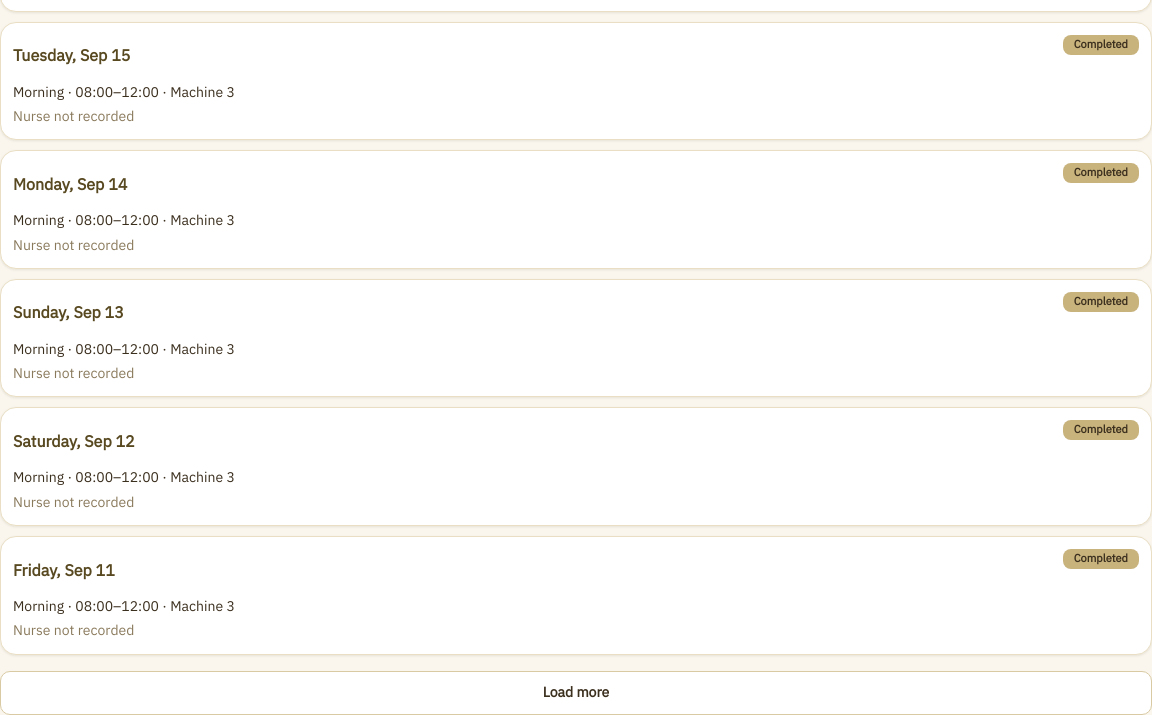
Scenario: Timeline › loads more using the day after the oldest date as before, without duplicating rows
(page scrolled)
Click the button "Load more" at coordinates (576, 693), box [0,671,1151,714]
(page scrolled)
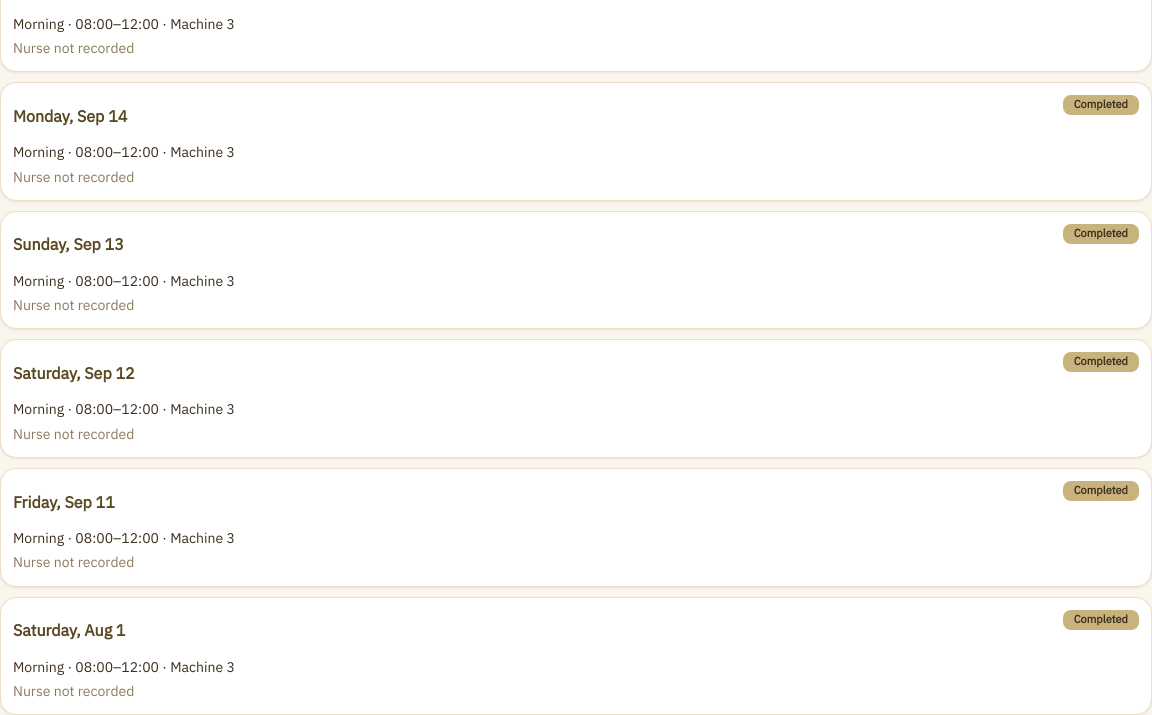
Expected: the number of elements with test id "timeline-row-r19" is 1, [0,468,1151,587]
Expected: the element with test id "timeline-row-old" is shown, [0,597,1151,714]
Expected: the button "Load more" is gone
